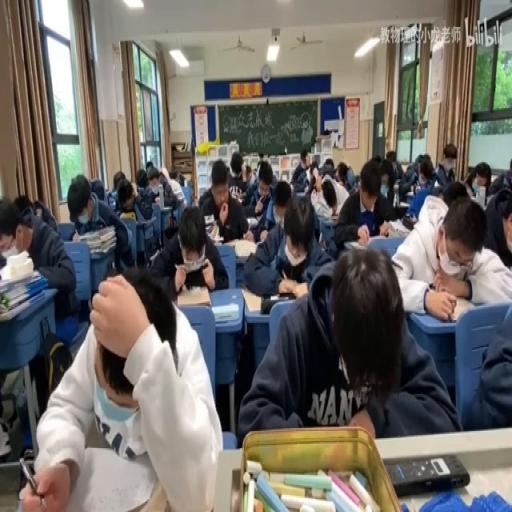calculator: (33, 448, 154, 512), (174, 284, 210, 308), (219, 235, 255, 259), (445, 296, 476, 323), (240, 286, 265, 311), (212, 300, 238, 322), (204, 214, 216, 234), (319, 213, 338, 225), (346, 239, 366, 247), (403, 188, 416, 200), (246, 215, 258, 226), (119, 210, 135, 218), (154, 195, 160, 206)
paper: (238, 243, 454, 441), (0, 192, 77, 441), (389, 189, 510, 314), (242, 192, 332, 296), (150, 200, 226, 294), (332, 155, 398, 259), (462, 286, 510, 429), (66, 174, 130, 280), (17, 192, 59, 235), (400, 151, 436, 199), (246, 156, 278, 206), (154, 165, 186, 206), (133, 170, 159, 220), (432, 141, 458, 189), (486, 158, 512, 195), (226, 152, 248, 194), (290, 149, 312, 188), (272, 180, 291, 218), (441, 181, 467, 206), (385, 148, 403, 183), (107, 168, 124, 203), (317, 155, 336, 179), (321, 183, 336, 212), (89, 176, 105, 202), (460, 168, 475, 193), (475, 172, 488, 191), (337, 160, 347, 184), (305, 176, 315, 194), (310, 155, 321, 171), (246, 170, 257, 184), (405, 162, 414, 179), (254, 158, 262, 175), (168, 169, 178, 181), (177, 171, 185, 186), (130, 182, 138, 196), (372, 152, 382, 161), (146, 160, 154, 170), (416, 154, 422, 165), (508, 156, 512, 170)
person: (386, 452, 470, 495), (259, 293, 297, 313), (402, 214, 416, 230), (396, 202, 410, 218)
